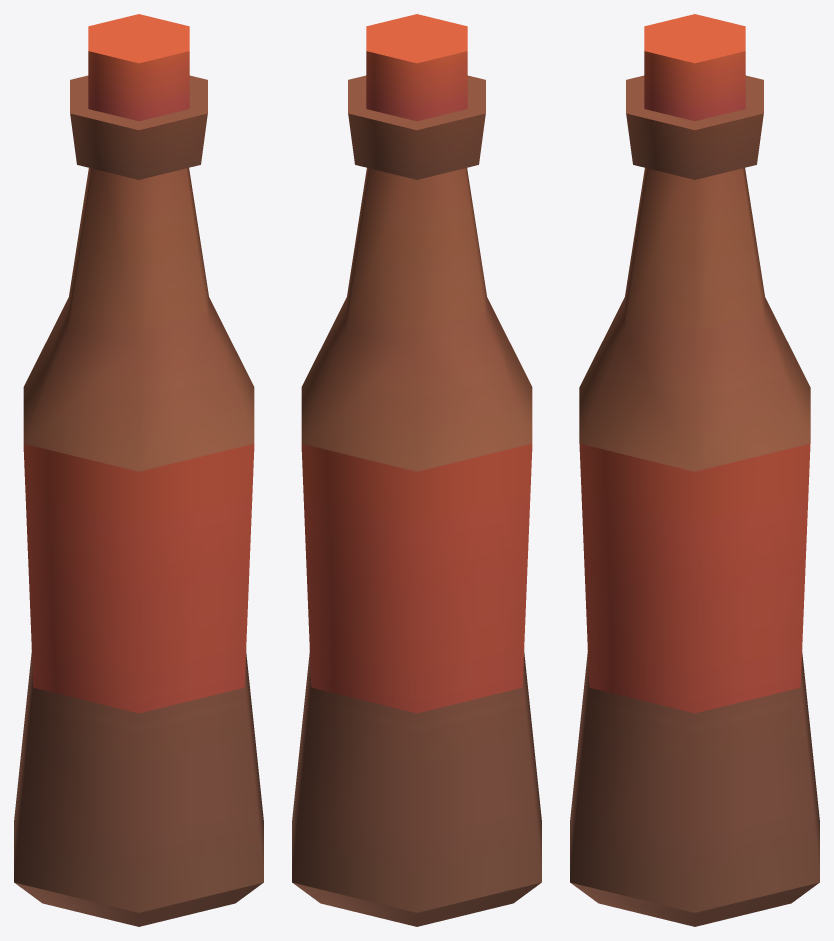
Rendered from soda_bottle.glb.
3 views of the same model, side by side, from view 1: azimuth 30°, elevation 25°; view 2: azimuth 150°, elevation 25°; view 3: azimuth 270°, elevation 25° (orthographic).
Visible parts, largest first — view 1: soda-bottle; view 2: soda-bottle; view 3: soda-bottle.
Boxes of the visible parts, <box> form: soda-bottle: <box>14,14,263,926</box>; soda-bottle: <box>292,14,541,926</box>; soda-bottle: <box>570,14,819,926</box>.
Bounding box in the file's own units: 0.0933 × 0.3 × 0.0808.
1 material, 1 textured.
